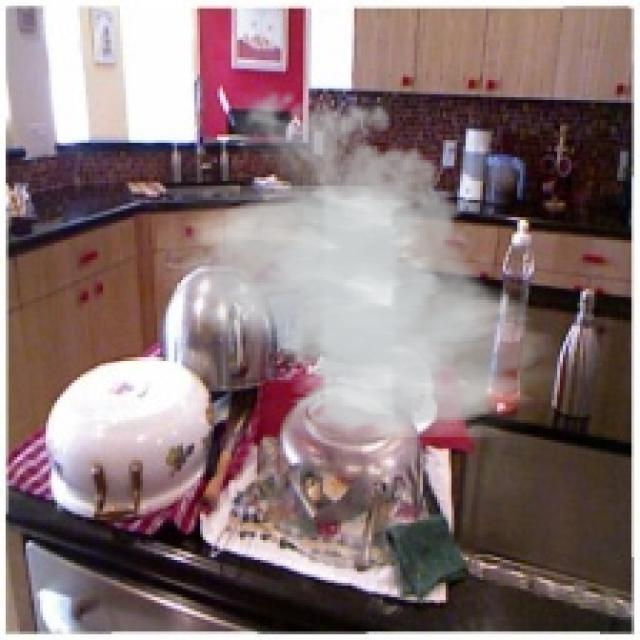Smoke: (157, 80, 560, 437)
